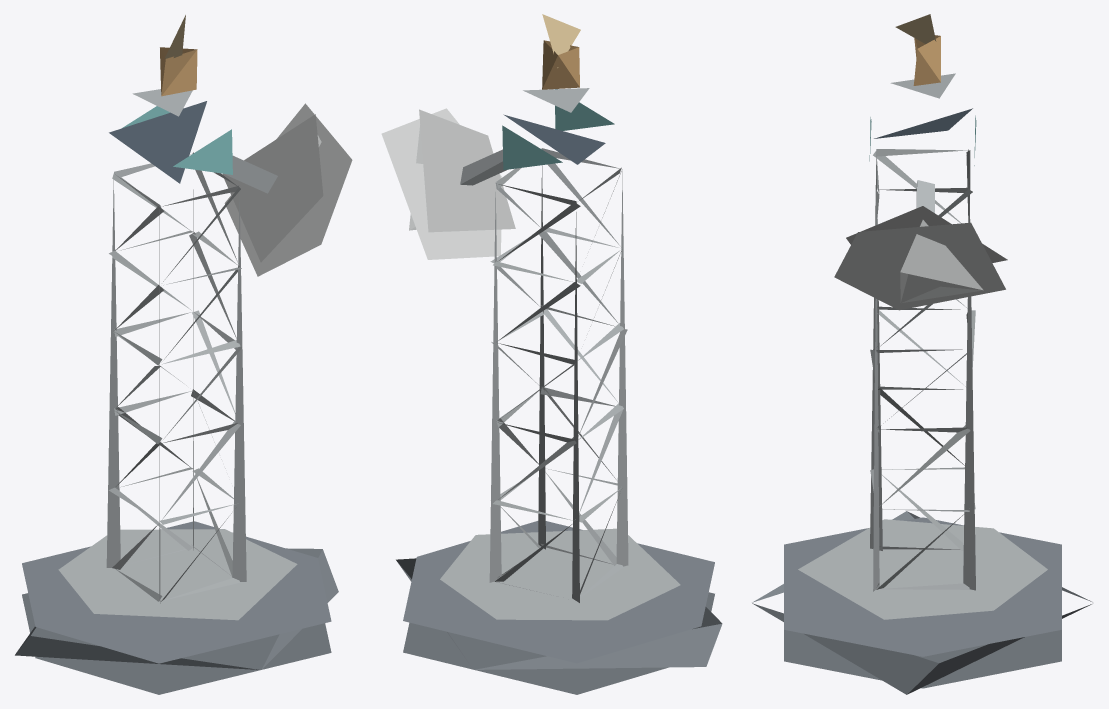
The picture shows the model from 3 angles, left to right: view 1: azimuth 30°, elevation 25°; view 2: azimuth 150°, elevation 25°; view 3: azimuth 270°, elevation 25°; orthographic projection.
Visible parts, largest first — view 1: sea_sensor_tower.001; view 2: sea_sensor_tower.001; view 3: sea_sensor_tower.001.
Boxes of the visible parts, left/top/right/bottom form: sea_sensor_tower.001: left=15, top=15, right=352, bottom=694; sea_sensor_tower.001: left=381, top=14, right=722, bottom=694; sea_sensor_tower.001: left=752, top=14, right=1092, bottom=694.
Bounding box in the file's own units: 1.86 × 3.47 × 1.77.
